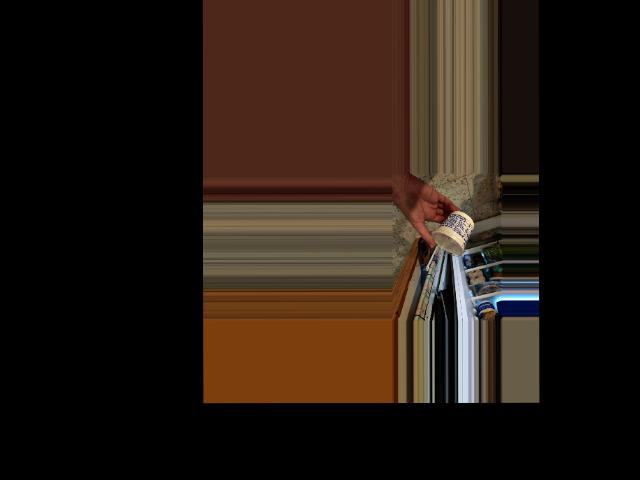cotage: (433, 209, 470, 257)
